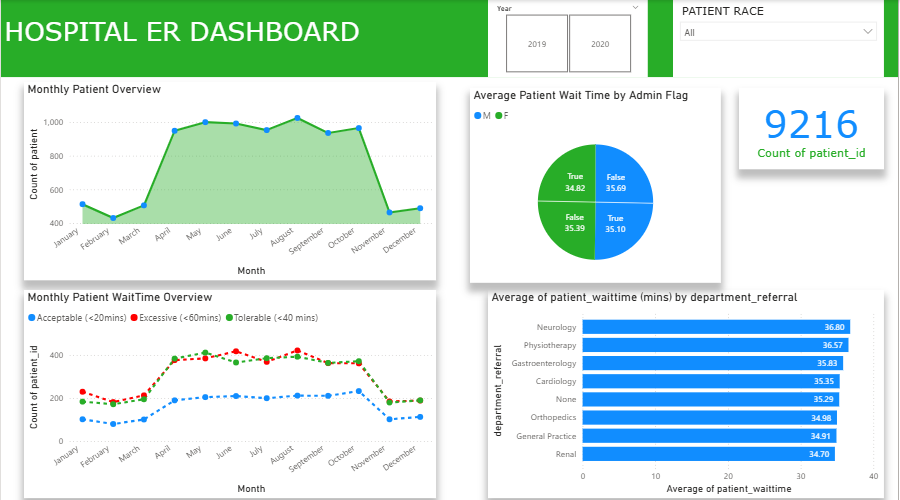

The dashboard page shown, as its layout file describes it:
{"tool":"powerbi","page":{"name":"Page 2","canvas":[1280,720],"ordinal":0},"visuals":[{"type":"textbox","box":[0,0,1280,109.9],"z":0},{"type":"slicer","fields":{"Values":["Hospital ER.patient_race"]},"box":[958.9,0,301.1,109.9],"z":1000},{"type":"card","fields":{"Values":["CountNonNull(Hospital ER.patient_id)"]},"box":[1053.1,125.6,206.9,115.6],"z":2000},{"type":"areaChart","title":"Monthly Patient Overview","fields":{"Category":["Hospital ER.Date.Variation.Date Hierarchy.Month"],"Y":["CountNonNull(Hospital ER.patient_id)"]},"box":[32.8,117,587.9,282.5],"z":3000},{"type":"barChart","title":"Average of patient_waittime (mins) by department_referral","fields":{"Category":["Hospital ER.department_referral"],"Y":["Avg(Hospital ER.patient_waittime)"]},"box":[694.9,413.8,565.1,296.8],"z":4000},{"type":"slicer","fields":{"Values":["Hospital ER.Date.Variation.Date Hierarchy.Year"]},"box":[694.9,0,228.3,109.9],"z":5000},{"type":"lineChart","title":"Monthly Patient WaitTime Overview","fields":{"Series":["Hospital ER.Patient_Waittime_Calc"],"Category":["Hospital ER.Date.Variation.Date Hierarchy.Month"],"Y":["CountNonNull(Hospital ER.patient_id)"]},"box":[32.8,413.8,587.9,296.8],"z":6000},{"type":"pieChart","title":"Average Patient Wait Time by Admin Flag","fields":{"Category":["Hospital ER.patient_gender"],"Y":["Avg(Hospital ER.patient_waittime)"],"Series":["Hospital ER.patient_admin_flag"]},"box":[669,125,358.2,278],"z":7000}]}

Visuals, with their boxes in screenshot pixels (x1, y1, x2, y2), scaled from the page's 1280x720 canvas onto the 900x500 screenshot:
textbox: Rect(0, 0, 899, 76)
slicer - Hospital ER.patient_race: Rect(674, 0, 886, 76)
card - CountNonNull(Hospital ER.patient_id): Rect(740, 87, 886, 168)
"Monthly Patient Overview" areaChart: Rect(23, 81, 436, 277)
"Average of patient_waittime (mins) by department_referral" barChart: Rect(489, 287, 886, 493)
slicer - Hospital ER.Date.Variation.Date Hierarchy.Year: Rect(489, 0, 649, 76)
"Monthly Patient WaitTime Overview" lineChart: Rect(23, 287, 436, 493)
"Average Patient Wait Time by Admin Flag" pieChart: Rect(470, 87, 722, 280)
